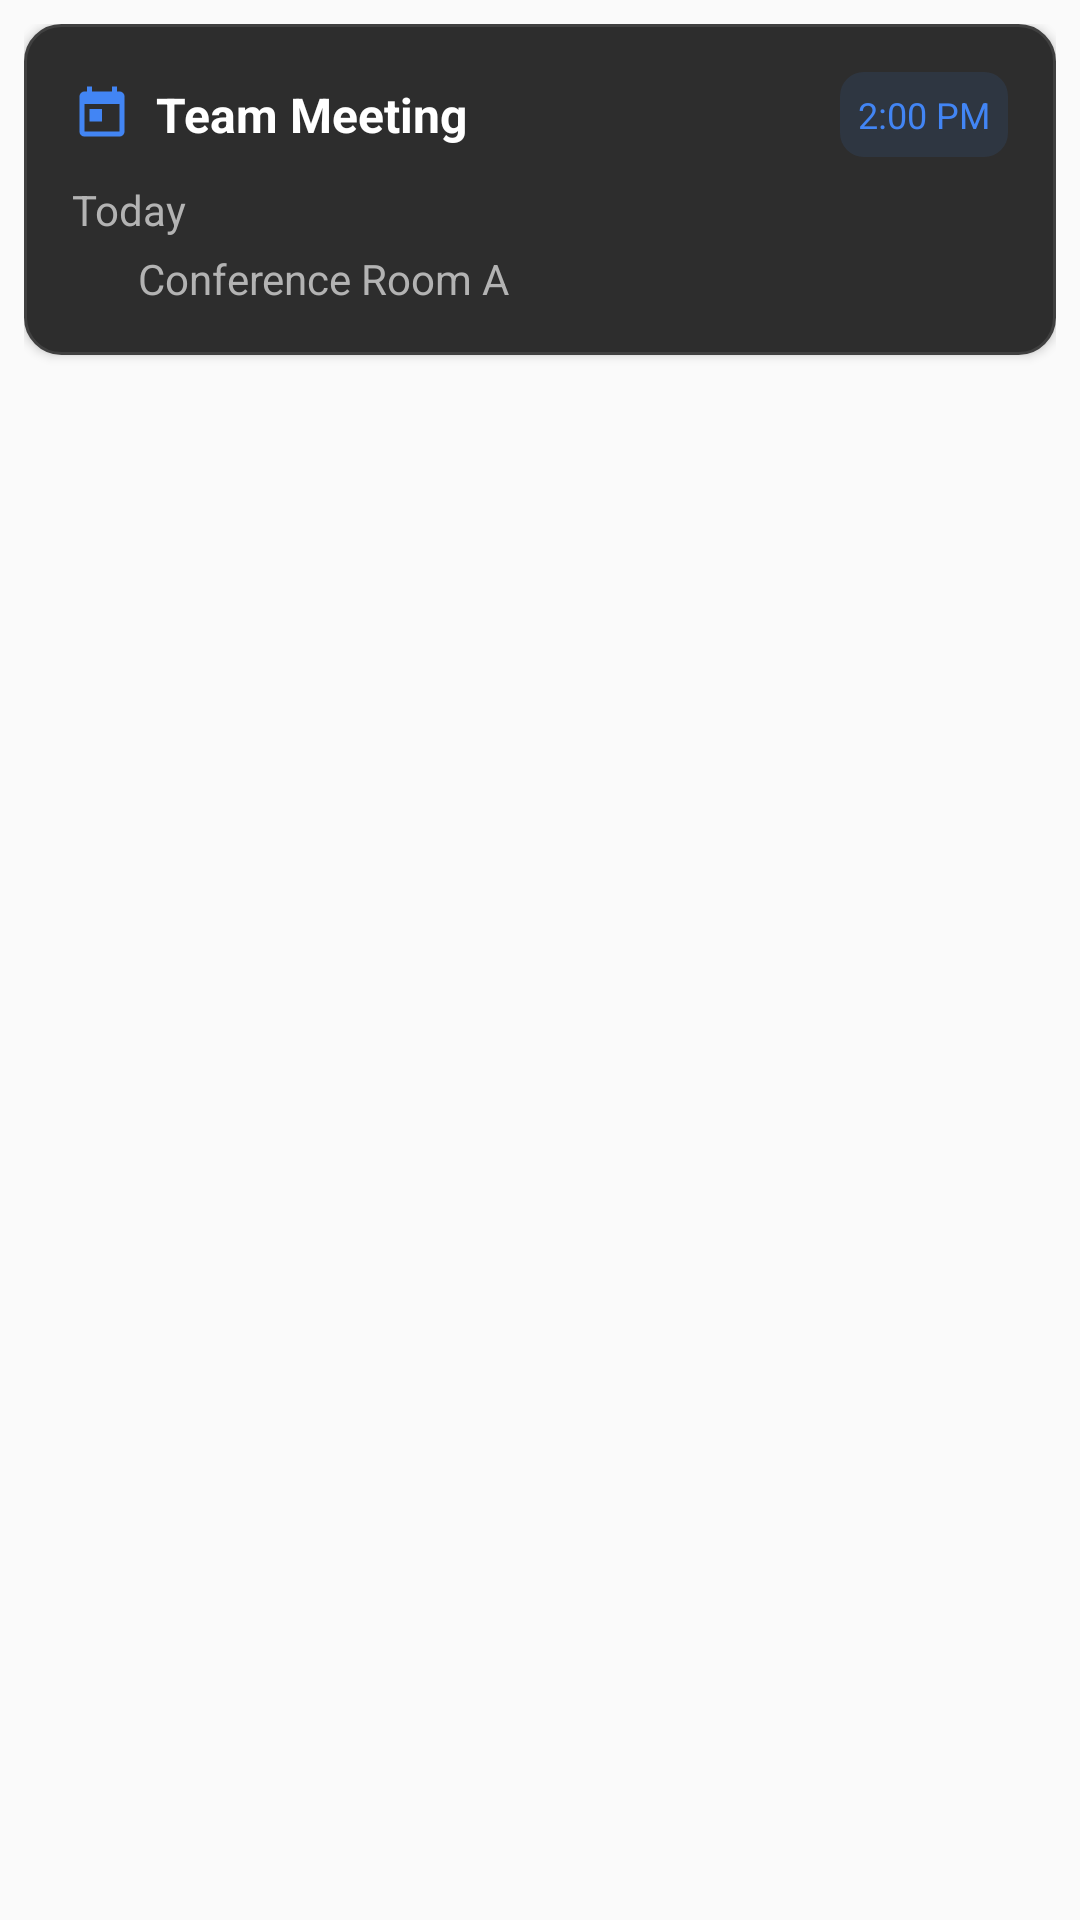

Locate icon controls on the screen. Image size 1080 × 1920, boxes as (x1, y1, x2, y2).
calendar: (79, 86, 125, 137)
